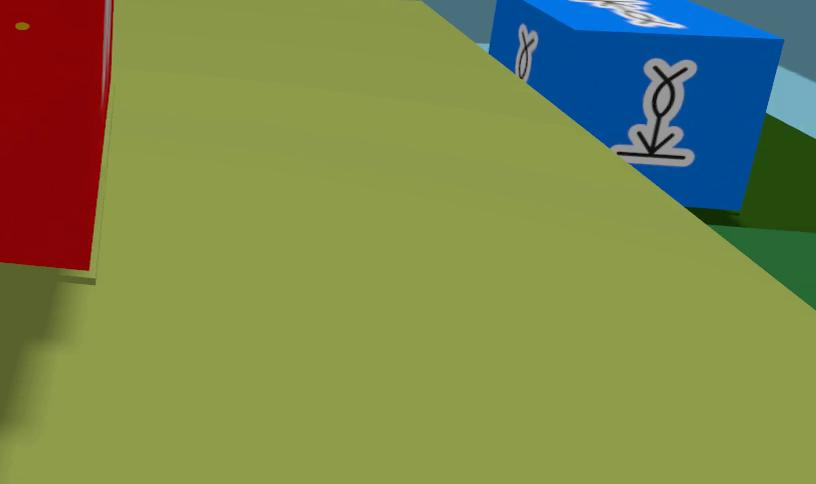KFS_FAKE: (0, 0, 118, 277)
KFS_REAL: (489, 0, 782, 209), (611, 58, 696, 165), (569, 0, 684, 28), (513, 24, 538, 80)
